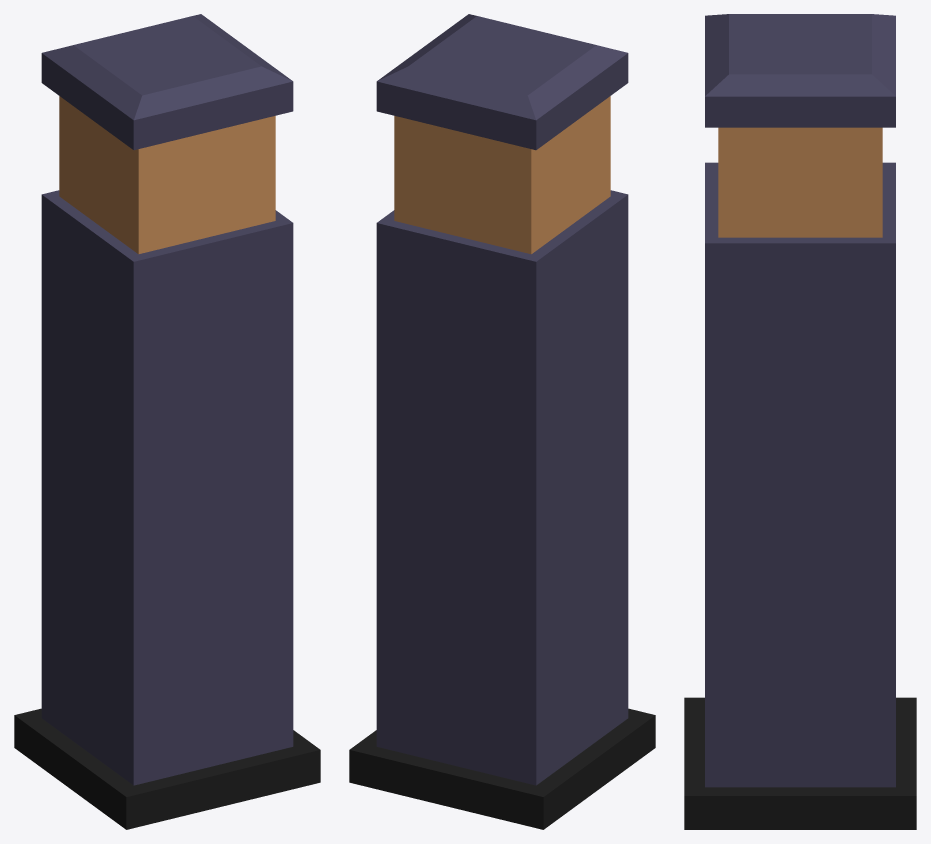
The model's file is Tori_PuistoValo.fbx.
The picture shows the model from 3 angles, left to right: view 1: azimuth 30°, elevation 25°; view 2: azimuth 150°, elevation 25°; view 3: azimuth 270°, elevation 25°; orthographic projection. The views are drawn at different scales.
Parts seen in each view (by area): view 1: Cube; view 2: Cube; view 3: Cube.
Part boxes in pixels (x1,y1,x2,y2): Cube: (14,14,320,829); Cube: (349,14,655,829); Cube: (684,14,916,829).
Size of the model in its own units: 36.49 by 127 by 36.49.
